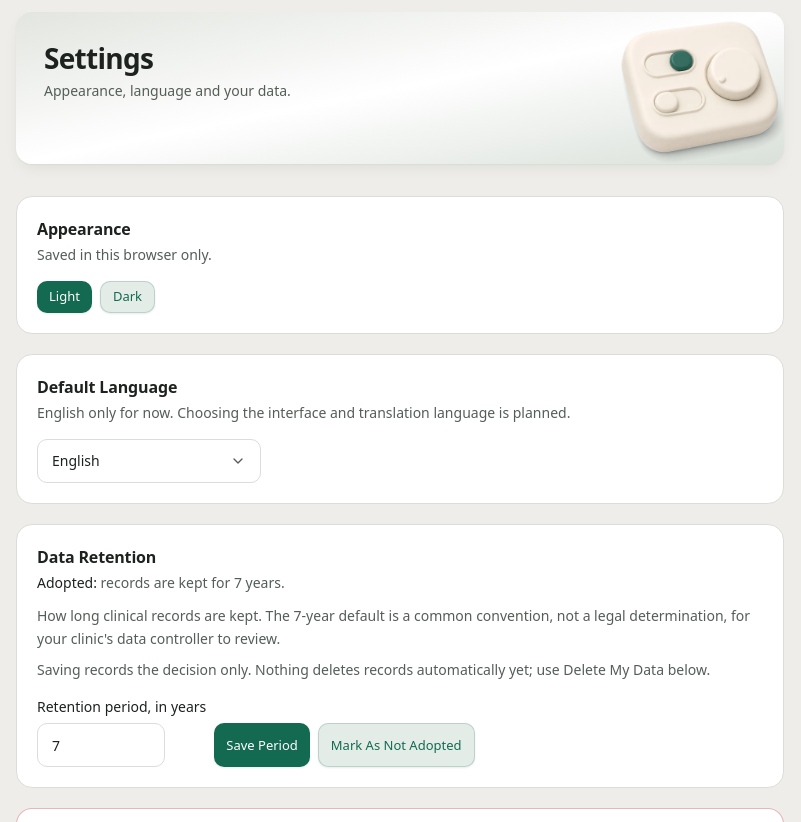
the retention period › returns an adopted period to unadopted rather than to a number
expect the text "Adopted: records are kept for 7 years." is shown: met, box 37,573 -> 285,592
Click the button "Mark As Not Adopted": (396, 745) 318,723 -> 474,767
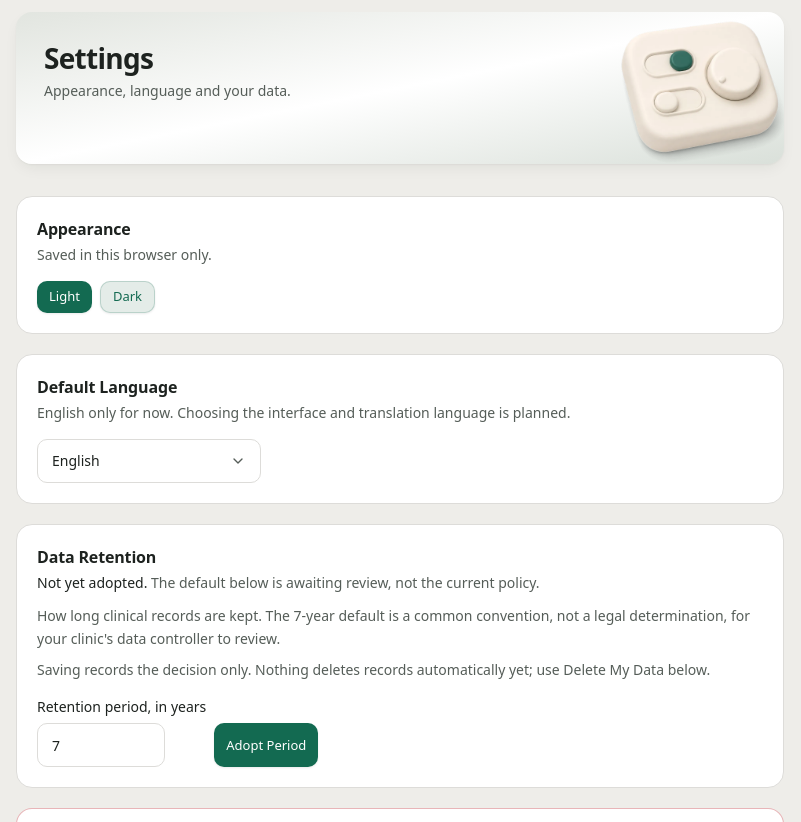
expect the text "Not yet adopted." is shown: met, box 37,573 -> 147,592
